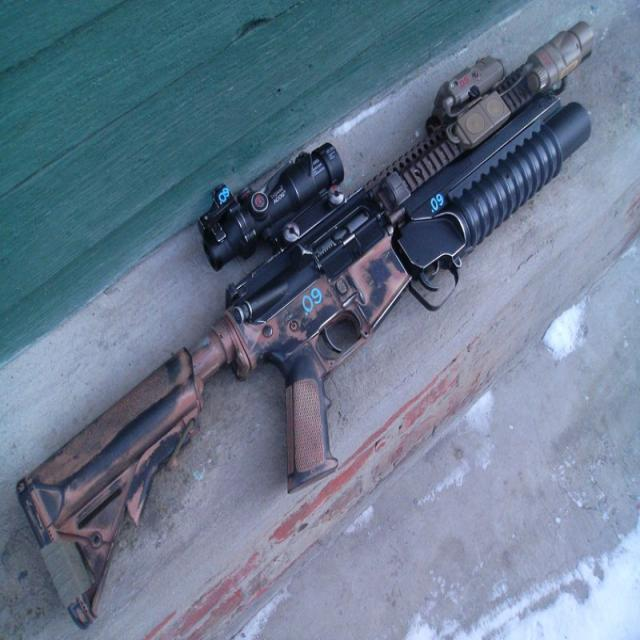firearm: (14, 14, 600, 634)
